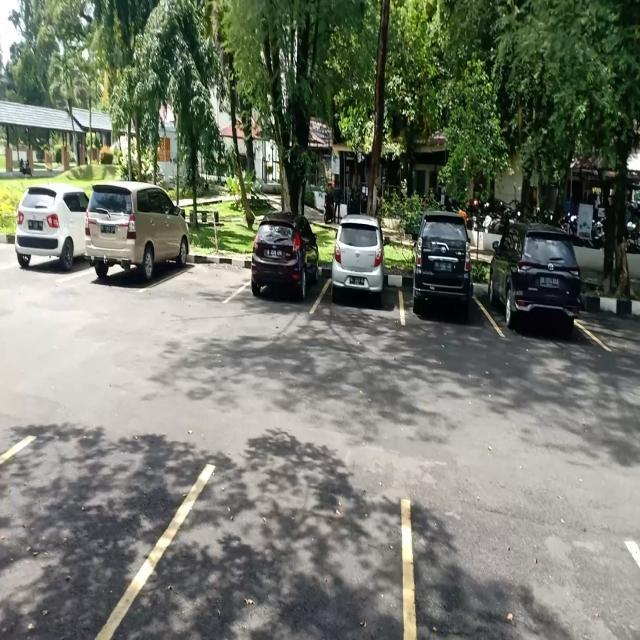empty: (183, 232, 247, 304)
occupied: (487, 232, 587, 337), (83, 207, 187, 292), (402, 245, 486, 326), (324, 239, 403, 323), (244, 236, 323, 313)
